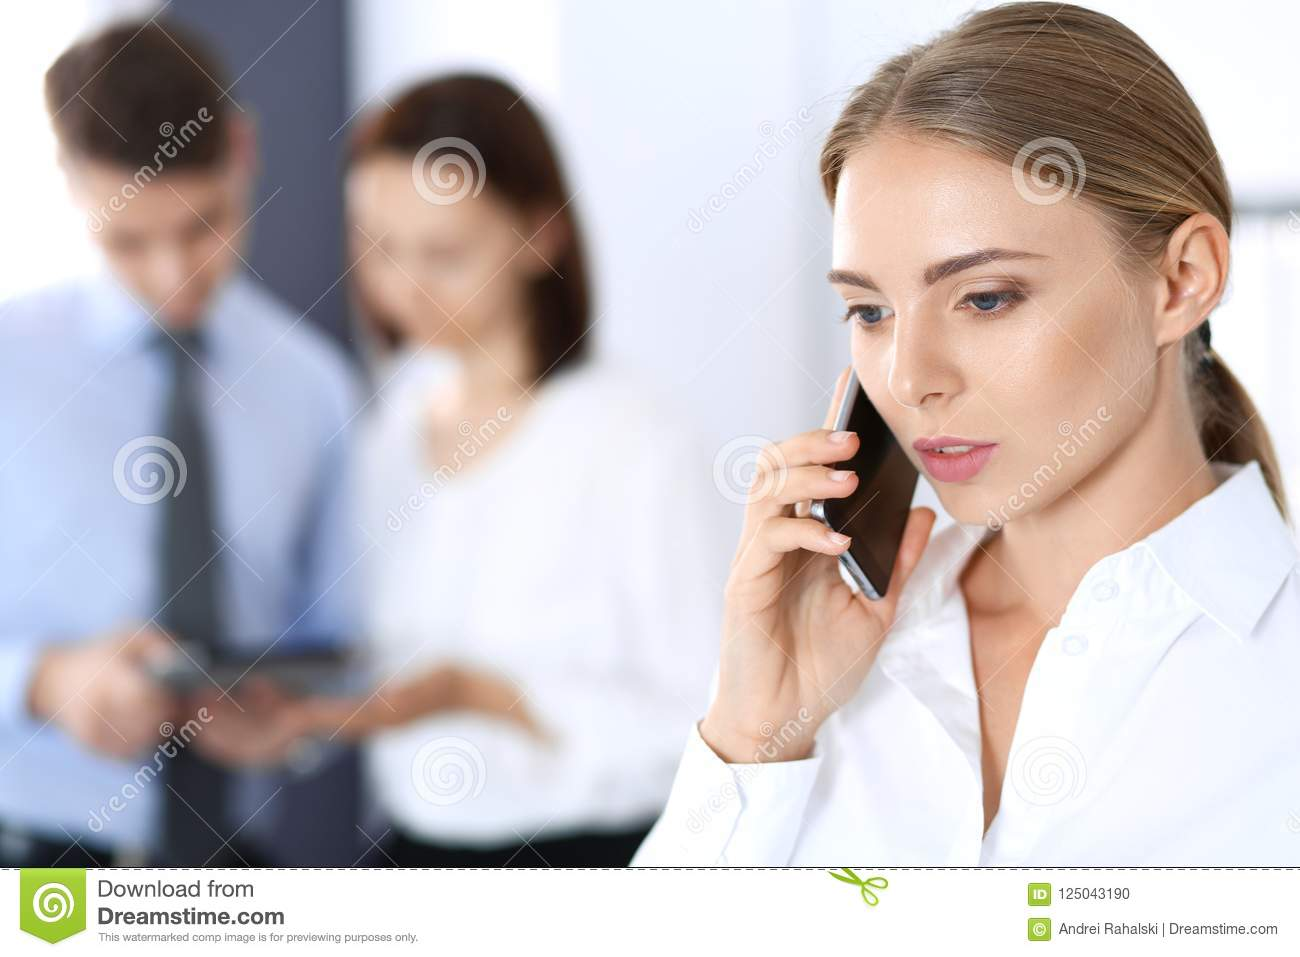phone: (809, 350, 923, 622)
talk: (709, 220, 1068, 732)
